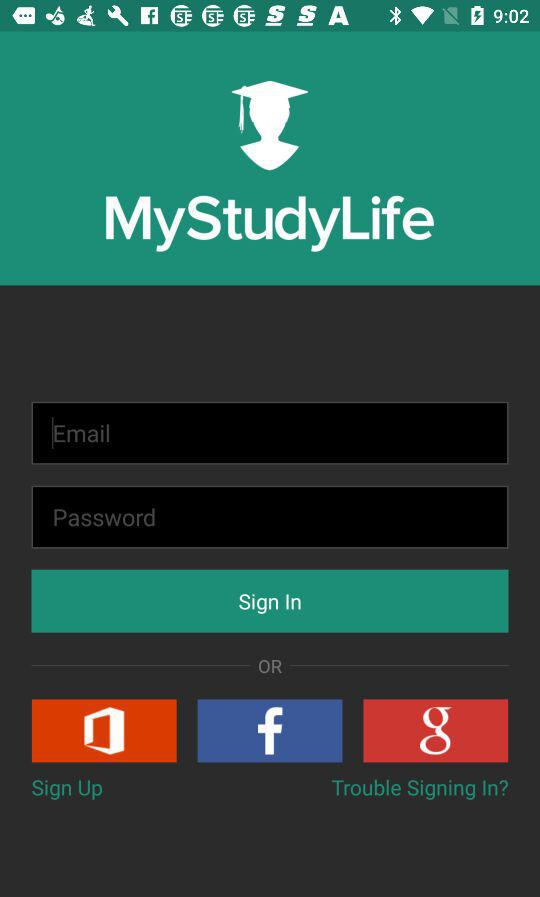EditText: (32, 402, 508, 466), (33, 486, 509, 549)
Image: (232, 81, 310, 172)
Text: (106, 196, 435, 254), (331, 778, 510, 801), (55, 509, 156, 528), (31, 779, 104, 801), (54, 424, 110, 443), (257, 657, 285, 677)
TextButton: (32, 569, 509, 634), (197, 699, 344, 764), (363, 699, 509, 764), (32, 699, 178, 763)
UpperTaskBar: (1, 1, 540, 33)
